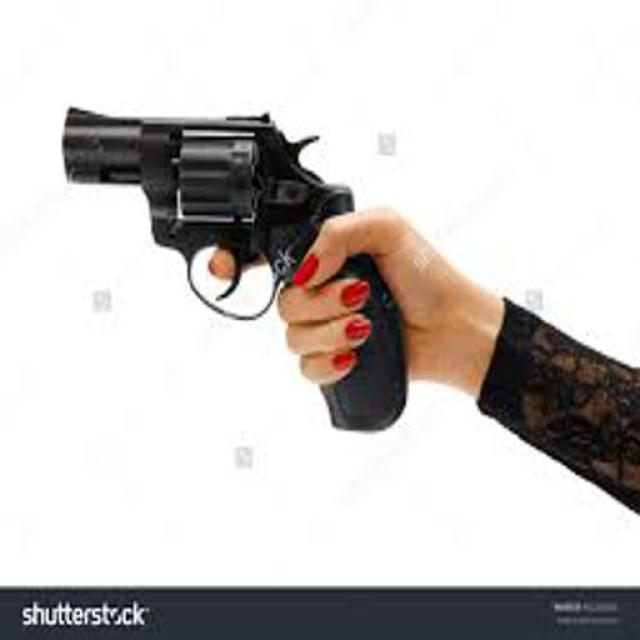pistol: (56, 101, 414, 430)
